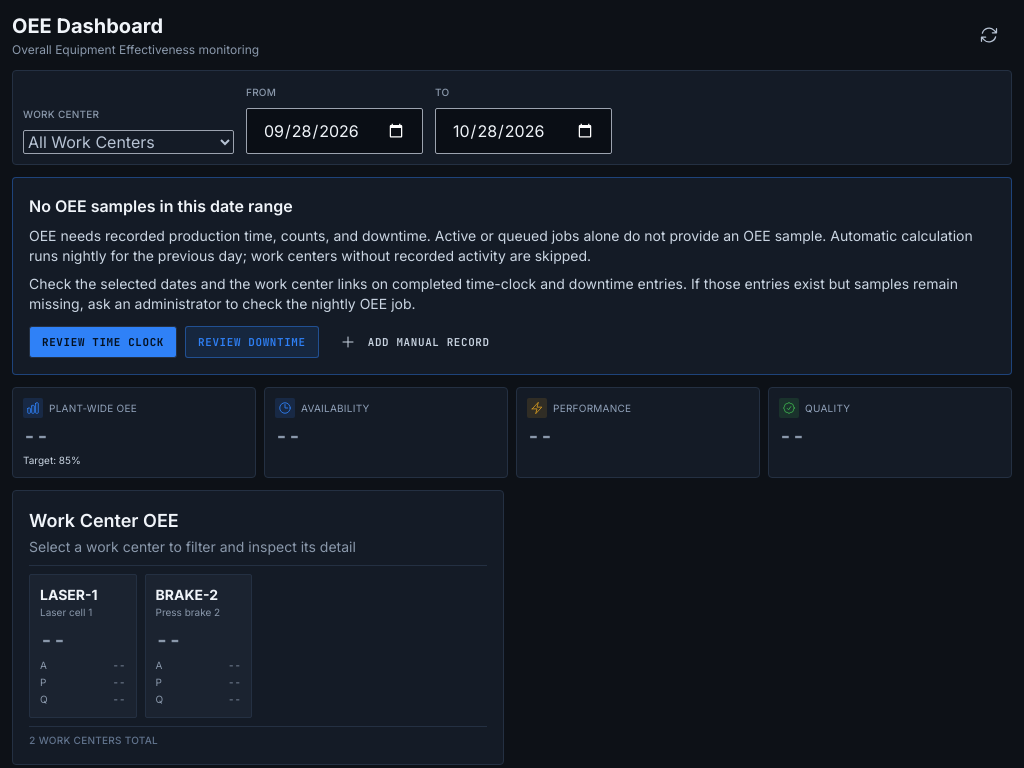
Test: an empty range explains sample inputs and offers review before secondary manual entry
Expected: the text "Automatic calculation runs nightly" is shown, [29,227,973,264]
Expected: the button "Add Record" is not shown
Step 1. Click the button "Add manual record" → (415, 342), box [327,326,503,358]
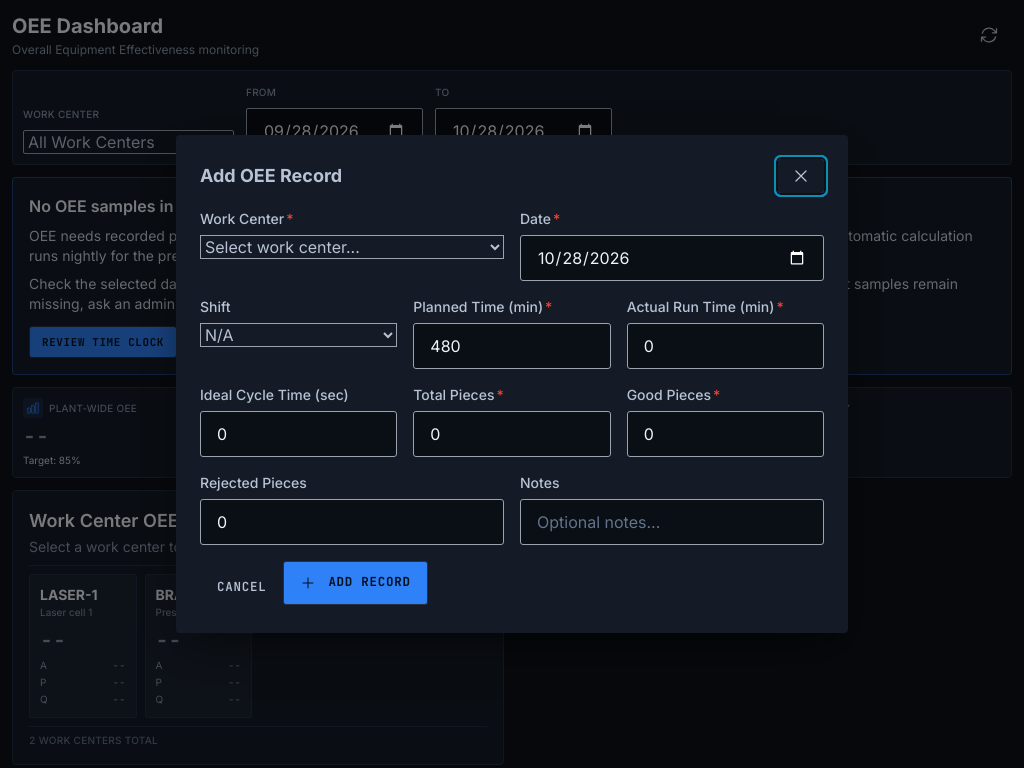
Now the dialog "Add OEE Record" is shown, box [176,135,848,633]
